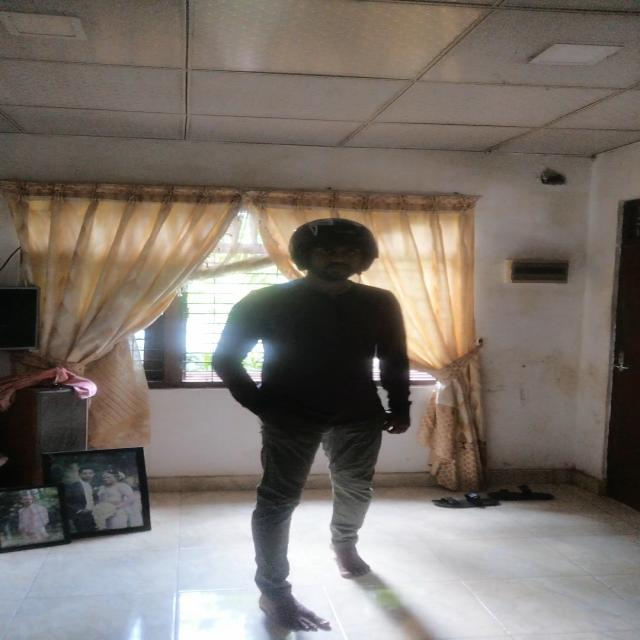Helmet_Wearer: (273, 214, 385, 288)
Person: (209, 214, 419, 610)
